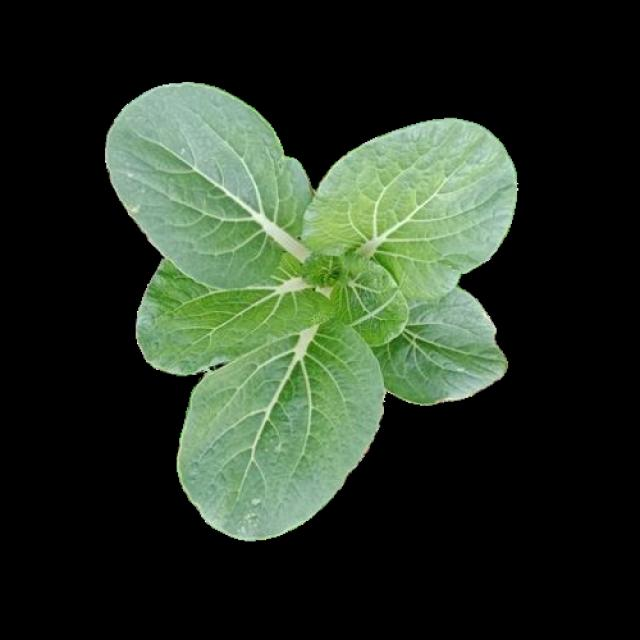healthy: (112, 87, 510, 534)
mature: (104, 85, 504, 531)
